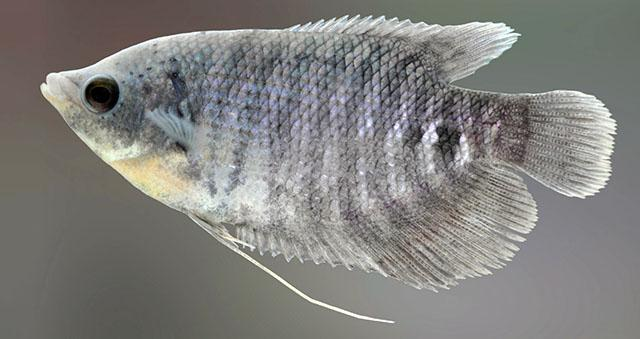Mulut: (17, 40, 88, 140)
Sirip Anal: (236, 164, 548, 298)
Sirip Dada: (142, 97, 228, 181)
Sirip Ekor: (493, 82, 631, 214)
Sirip Perut: (175, 203, 402, 327)
Sirip Punggung: (262, 4, 532, 92)
